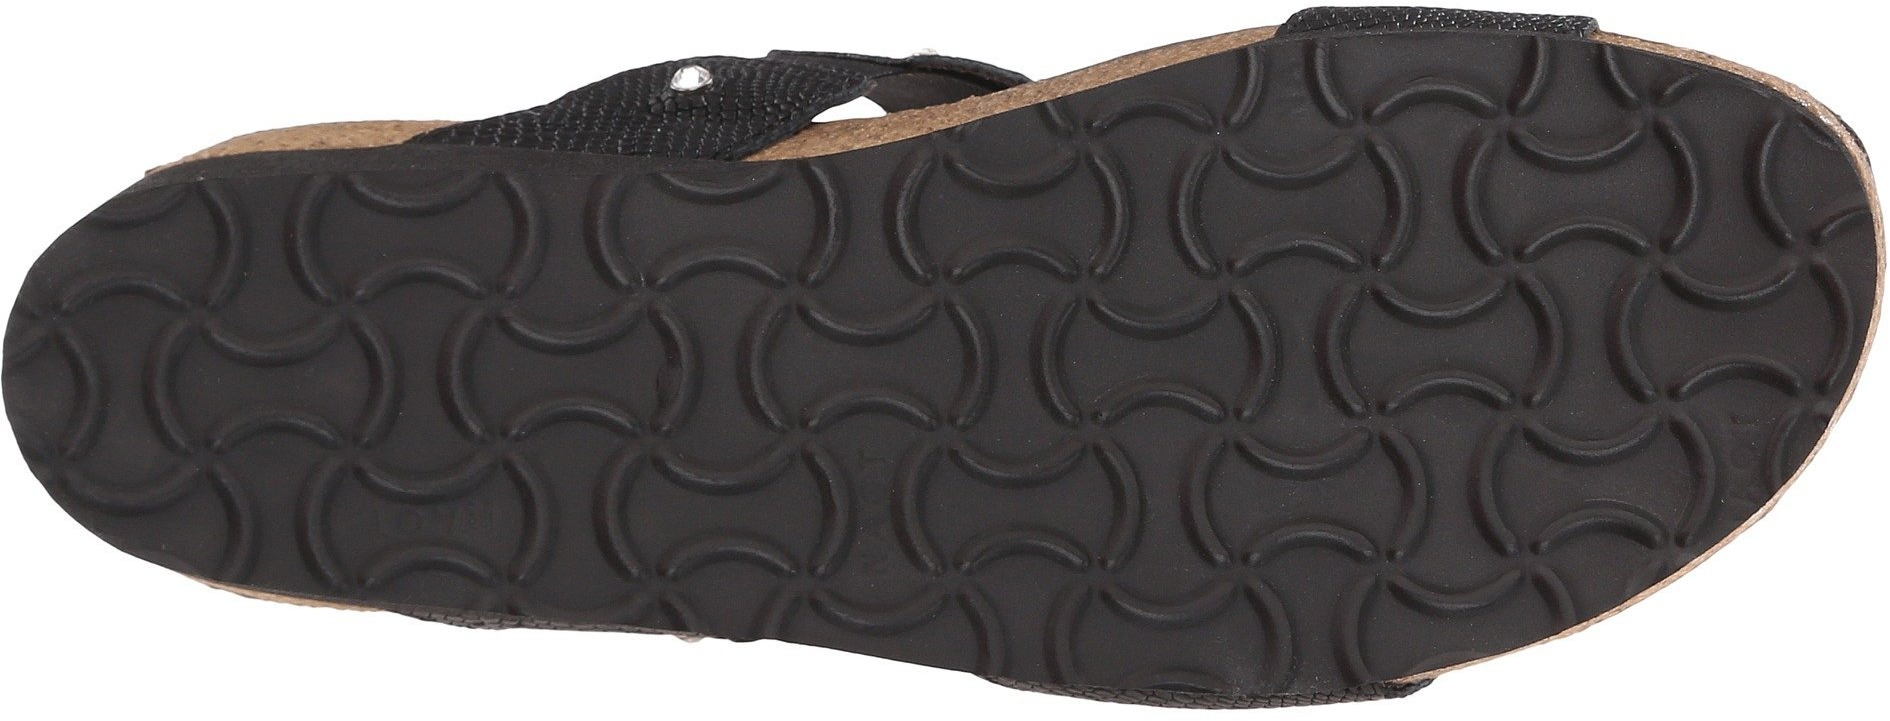bowtie: (939, 189, 1414, 669), (215, 203, 663, 620), (1266, 49, 1630, 405), (334, 184, 702, 474), (961, 133, 1257, 447), (677, 367, 939, 631), (1266, 416, 1536, 640), (720, 172, 951, 426), (1022, 456, 1267, 691), (81, 251, 310, 486), (786, 430, 994, 640), (1639, 139, 1848, 336), (1550, 410, 1720, 553), (553, 482, 709, 626)
circle: (382, 496, 435, 555)
star: (419, 244, 580, 381)
text: (215, 203, 663, 620), (677, 367, 939, 631)
